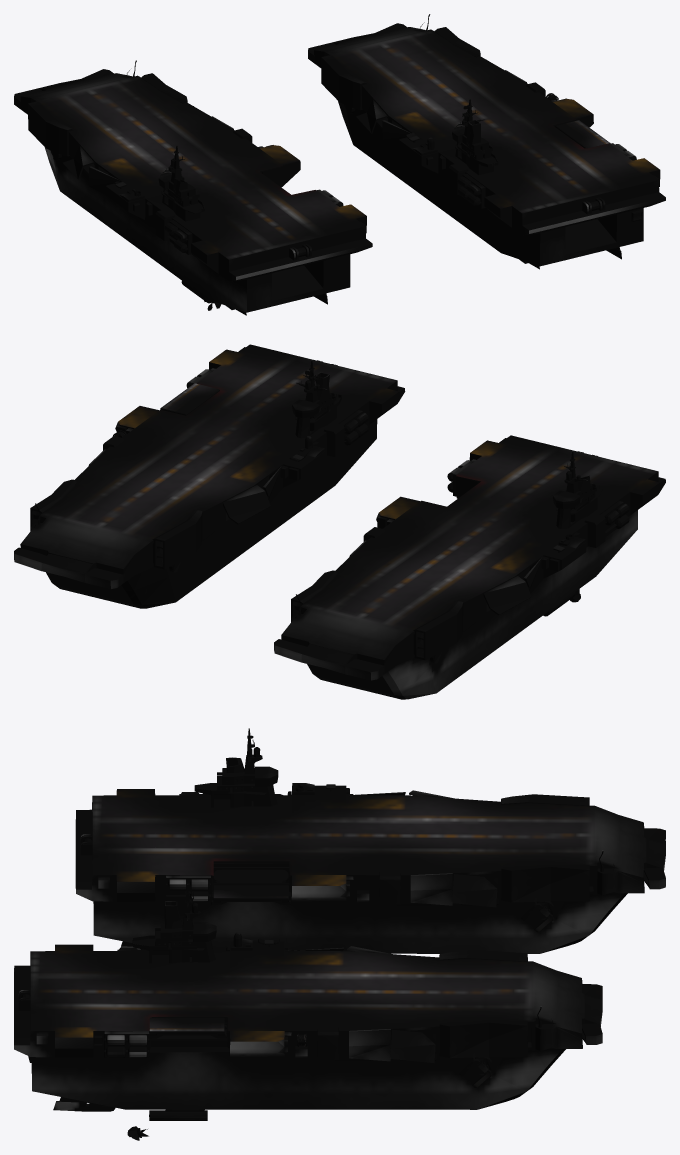
File: aircraft_carrier_shell_broken.fbx
3 renders of one model, top to bottom at view 1: azimuth 30°, elevation 25°; view 2: azimuth 150°, elevation 25°; view 3: azimuth 270°, elevation 25°, orthographic. The views are drawn at different scales.
Parts seen in each view (by area): view 1: aircraft_carrier_broken, aircraft_carrier_broken_dishcover, aircraft_carrier_broken_engine_l, aircraft_carrier_lift, aircraft_carrier_broken_pannal, aircraft_carrier_broken_side_a, aircraft_carrier_broken_side_b, aircraft_carrier_broken_engine_r, aircraft_carrier_broken_front; view 2: aircraft_carrier_broken, aircraft_carrier_broken_dishcover, aircraft_carrier_broken_front, aircraft_carrier_broken_engine_l, aircraft_carrier_lift, aircraft_carrier_broken_pannal, aircraft_carrier_broken_side_b, aircraft_carrier_broken_engine_r, aircraft_carrier_broken_side_a, aircraft_carrier_broken_box; view 3: aircraft_carrier_broken, aircraft_carrier_broken_dishcover, aircraft_carrier_broken_engine_r, aircraft_carrier_broken_side_a, aircraft_carrier_lift, aircraft_carrier_broken_front, aircraft_carrier_broken_engine_l, aircraft_carrier_broken_below.
Part boxes in pixels (x1=…): aircraft_carrier_broken: x1=14, y1=60, x2=372, y2=315; aircraft_carrier_broken_dishcover: x1=314, y1=14, x2=665, y2=269; aircraft_carrier_broken_engine_l: x1=321, y1=55, x2=366, y2=109; aircraft_carrier_lift: x1=555, y1=120, x2=610, y2=148; aircraft_carrier_broken_pannal: x1=458, y1=173, x2=485, y2=208; aircraft_carrier_broken_side_a: x1=551, y1=98, x2=593, y2=127; aircraft_carrier_broken_side_b: x1=484, y1=194, x2=511, y2=227; aircraft_carrier_broken_engine_r: x1=434, y1=27, x2=480, y2=57; aircraft_carrier_broken_front: x1=308, y1=23, x2=406, y2=63; aircraft_carrier_broken: x1=274, y1=435, x2=665, y2=699; aircraft_carrier_broken_dishcover: x1=20, y1=344, x2=405, y2=608; aircraft_carrier_broken_front: x1=14, y1=547, x2=124, y2=588; aircraft_carrier_broken_engine_l: x1=152, y1=510, x2=202, y2=569; aircraft_carrier_lift: x1=160, y1=383, x2=219, y2=415; aircraft_carrier_broken_pannal: x1=339, y1=410, x2=368, y2=445; aircraft_carrier_broken_side_b: x1=369, y1=388, x2=399, y2=423; aircraft_carrier_broken_engine_r: x1=30, y1=479, x2=76, y2=530; aircraft_carrier_broken_side_a: x1=115, y1=406, x2=158, y2=435; aircraft_carrier_broken_box: x1=324, y1=423, x2=344, y2=456; aircraft_carrier_broken: x1=75, y1=728, x2=665, y2=953; aircraft_carrier_broken_dishcover: x1=14, y1=901, x2=584, y2=1109; aircraft_carrier_broken_engine_r: x1=439, y1=1020, x2=527, y2=1058; aircraft_carrier_broken_side_a: x1=229, y1=1031, x2=291, y2=1056; aircraft_carrier_lift: x1=149, y1=1017, x2=226, y2=1038; aircraft_carrier_broken_front: x1=582, y1=984, x2=602, y2=1044; aircraft_carrier_broken_engine_l: x1=439, y1=950, x2=527, y2=961; aircraft_carrier_broken_below: x1=149, y1=1109, x2=207, y2=1120.
Size of the model in its own units: 21823 by 7414 by 23495.
1 material, 1 textured.
